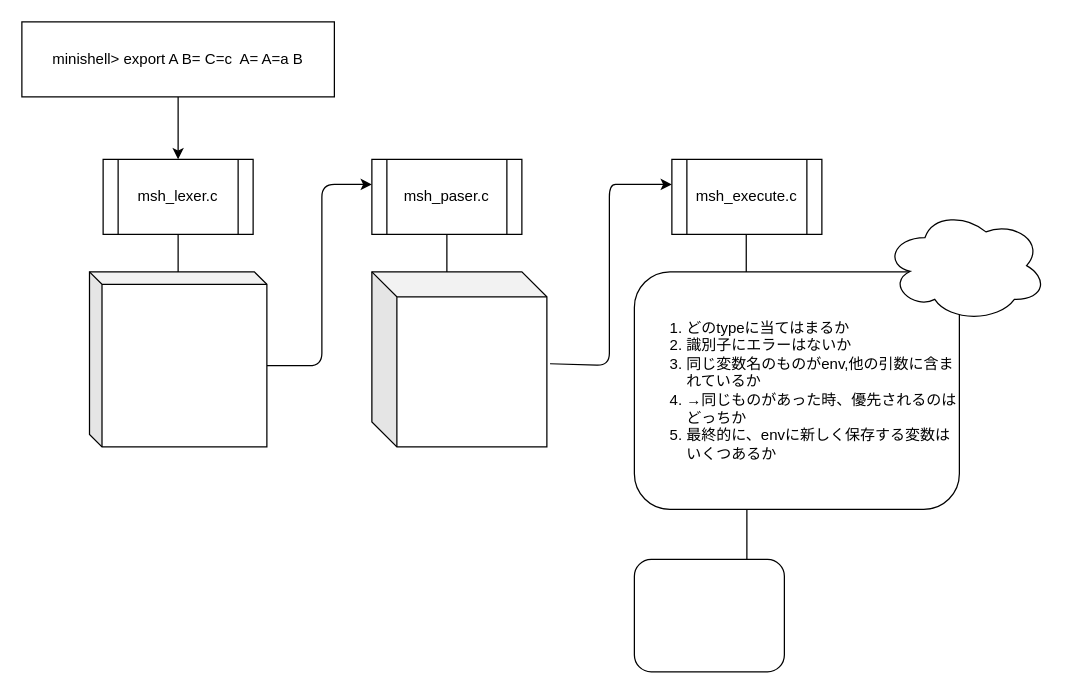
Image size: 1069x694. Some labels were removed from this diagram. The centre of each missing label's shape, as x and y in pixels:
[変数] [変数=] [変数=値]: (965,265)
ft_splitで: (708,615)
token [export] [A] [B=] [C=c] [A=] [A=a] [B]: (177,359)
